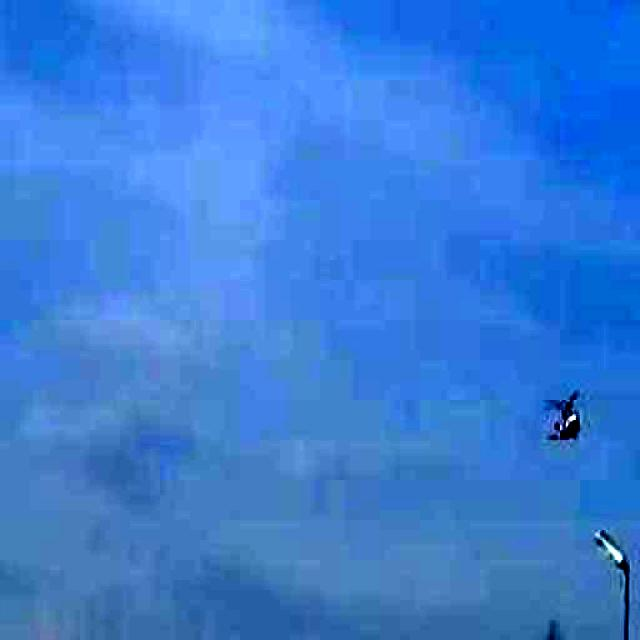drone: (529, 389, 601, 449)
